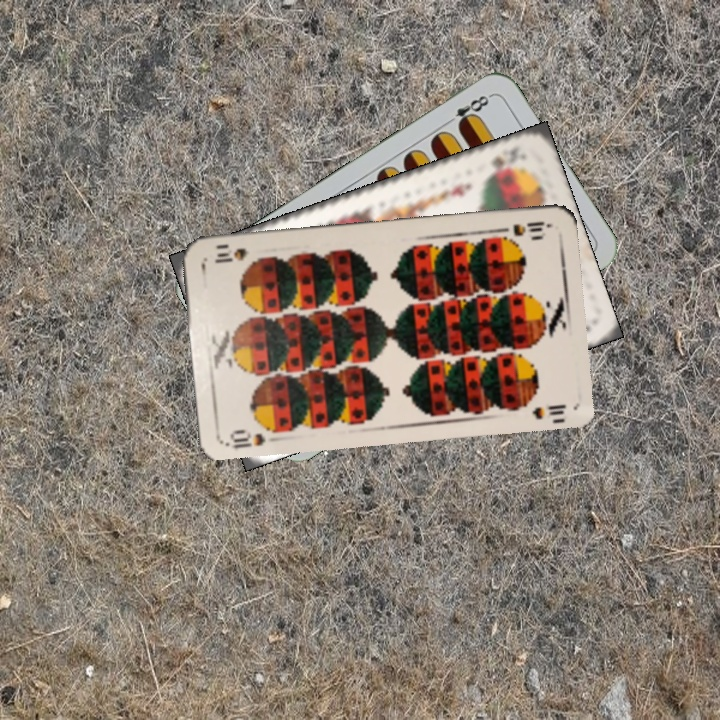E8: (441, 91, 494, 131)
S10: (493, 217, 553, 239), (226, 425, 269, 451)
SK: (483, 145, 517, 179)
